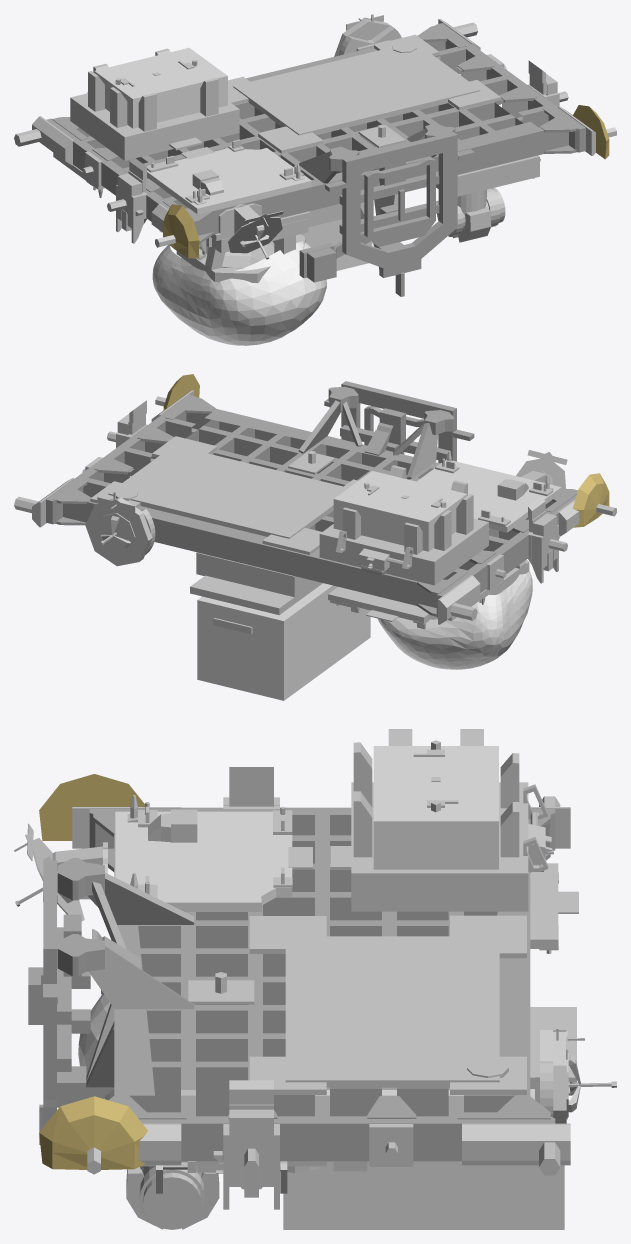
Rendered from ESP3.glb.
3 views of the same model, one above another, from view 1: azimuth 30°, elevation 25°; view 2: azimuth 150°, elevation 25°; view 3: azimuth 270°, elevation 25° (orthographic). The views are drawn at different scales.
Parts seen in each view (by area): view 1: Layer_0; view 2: Layer_0; view 3: Layer_0.
Part boxes in pixels (x1,y1,x2,y2): Layer_0: [14, 14, 616, 345]; Layer_0: [14, 374, 616, 700]; Layer_0: [14, 729, 616, 1229].
Size of the model in its own units: 196 by 92.53 by 137.
